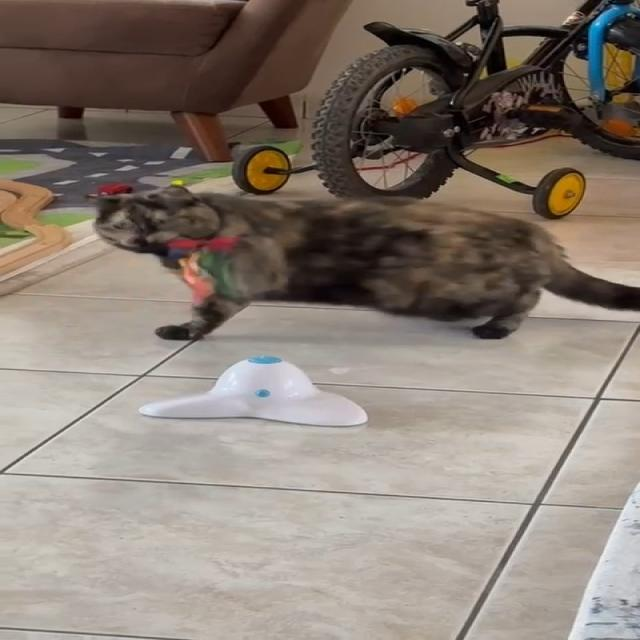authorized: (88, 184, 639, 341)
